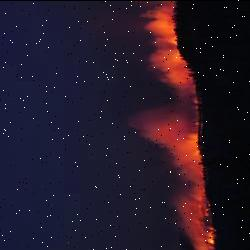fire: (141, 3, 202, 82), (183, 125, 218, 250)
